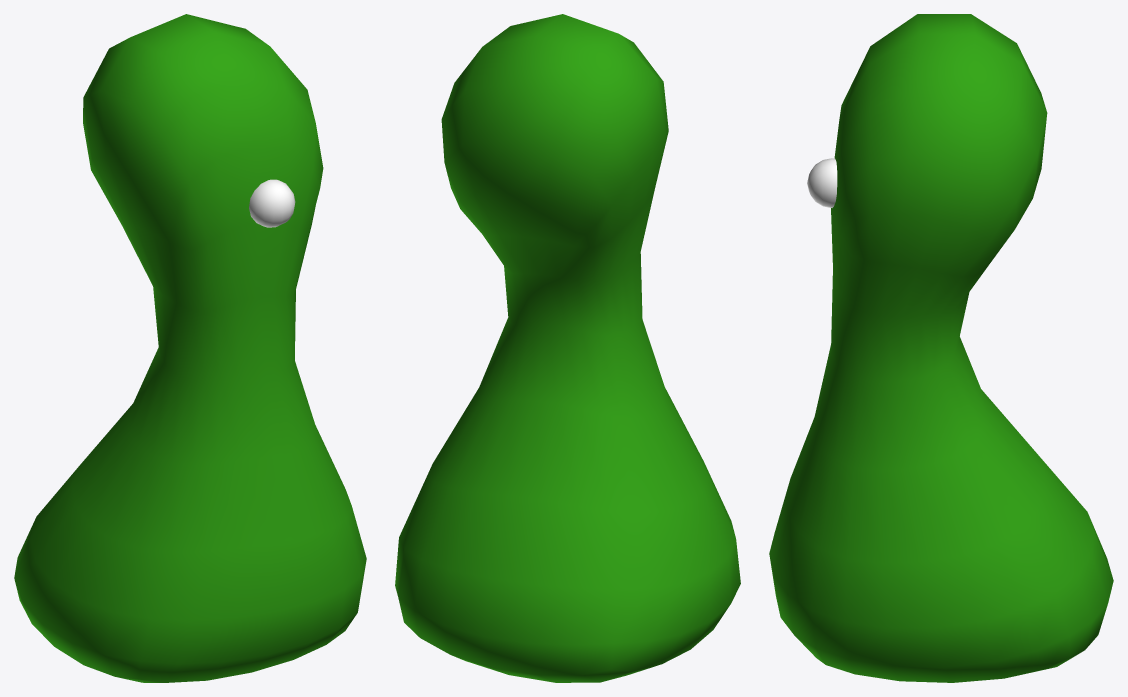
File: Slime_08.fbx
The picture shows the model from 3 angles, left to right: view 1: azimuth 30°, elevation 25°; view 2: azimuth 150°, elevation 25°; view 3: azimuth 270°, elevation 25°; orthographic projection.
Visible parts, largest first — view 1: Slime_08; view 2: Slime_08; view 3: Slime_08.
Boxes of the visible parts, x1,y1,x2,y2 form: Slime_08: (14,14,366,682); Slime_08: (395,14,740,682); Slime_08: (769,14,1113,682).
Bounding box in the file's own units: 0.5981 × 1.2 × 0.6049.
